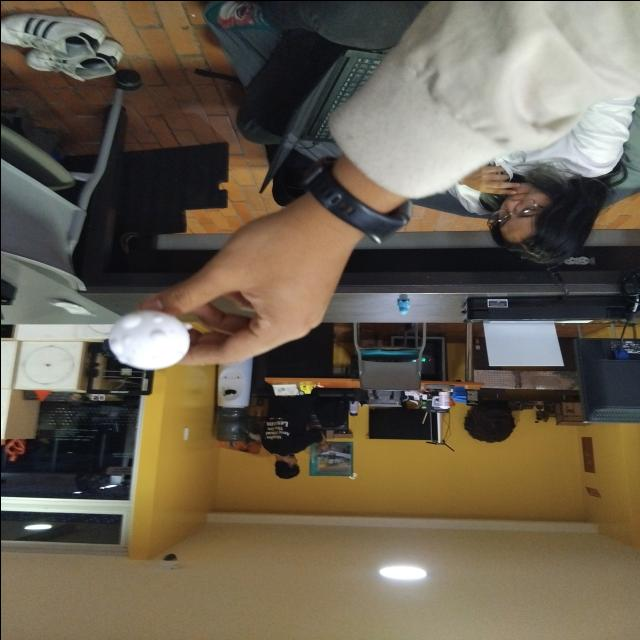Hongo: (104, 307, 194, 375)
